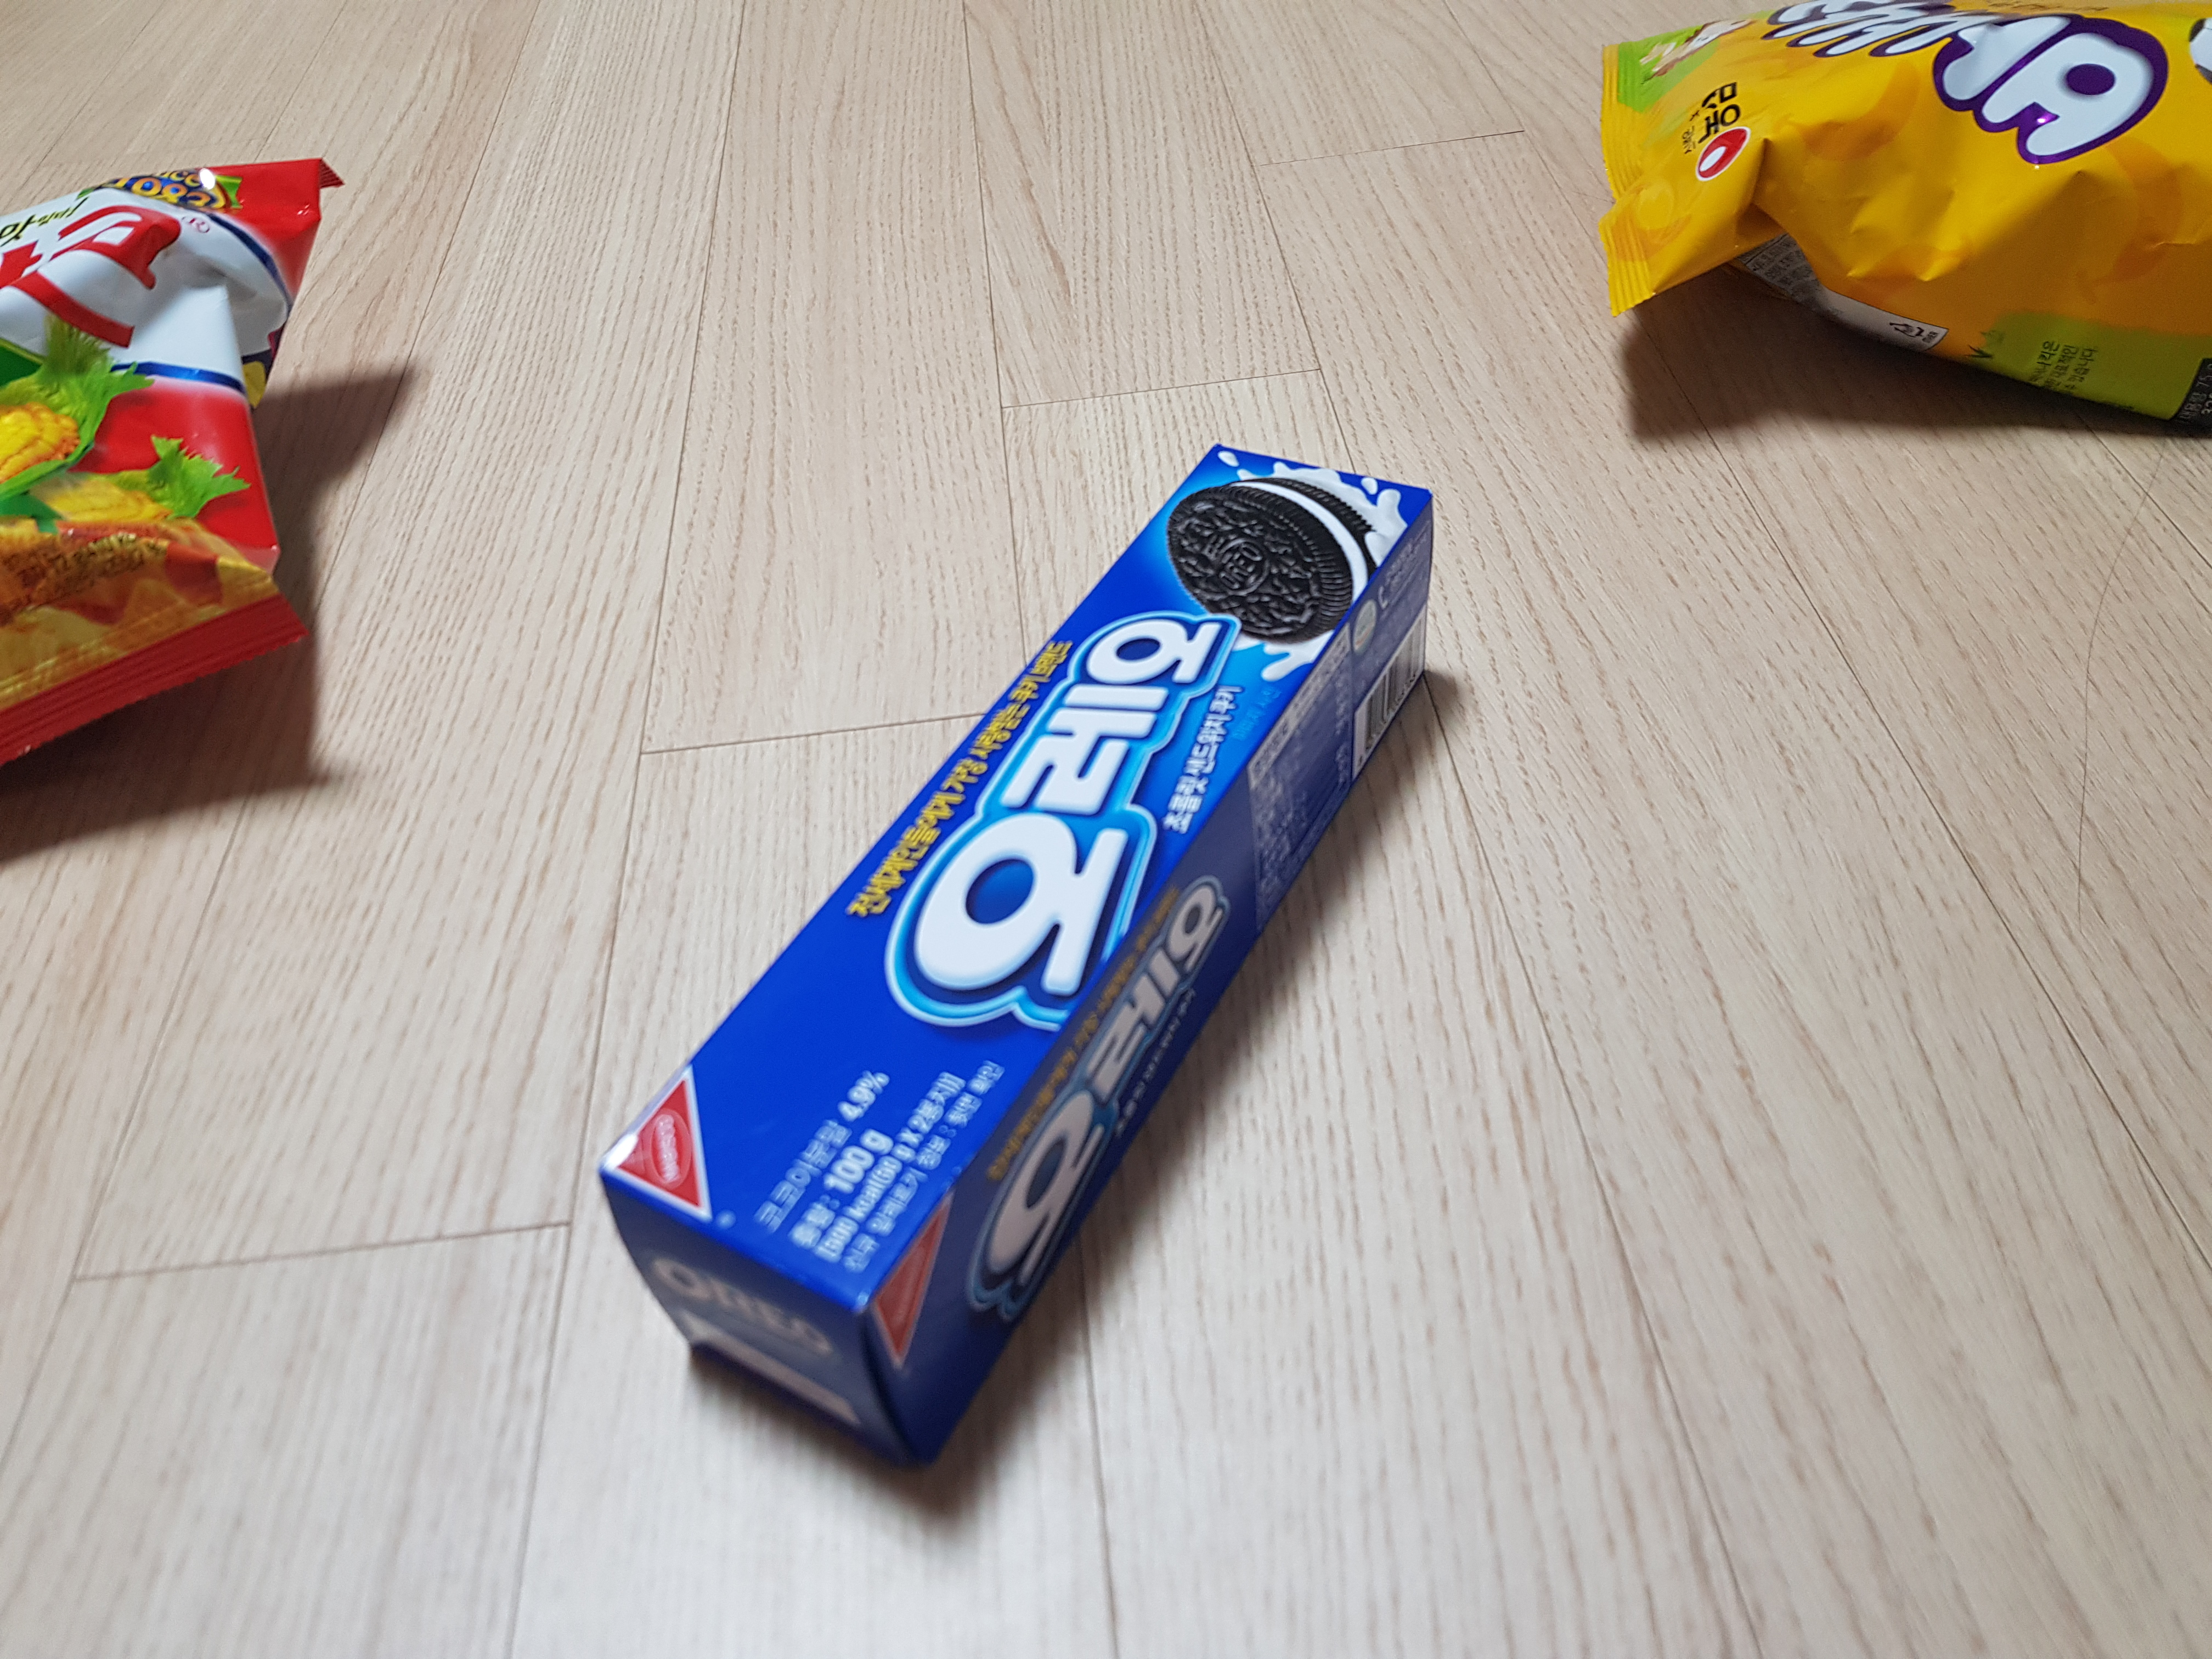banana: (1566, 14, 2212, 457)
ggoggalcon: (7, 164, 327, 779)
oreo: (583, 437, 1444, 1511)
